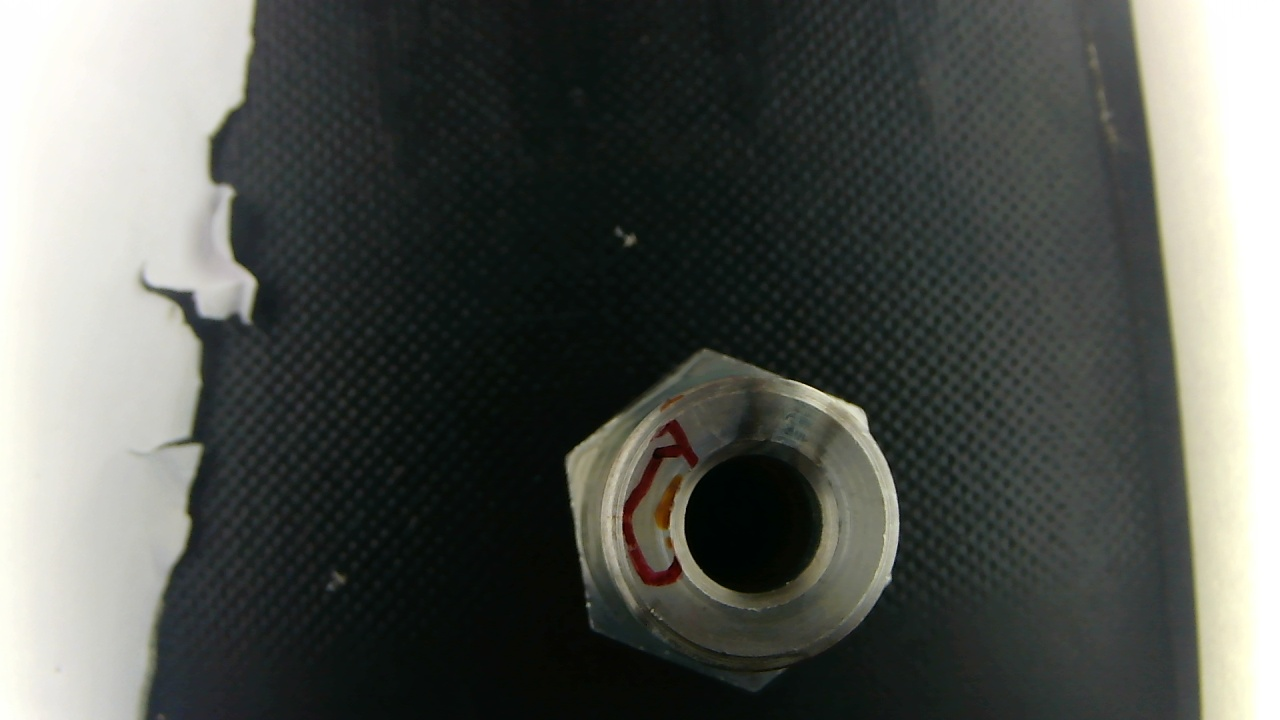blackpatch: (732, 380, 785, 449)
